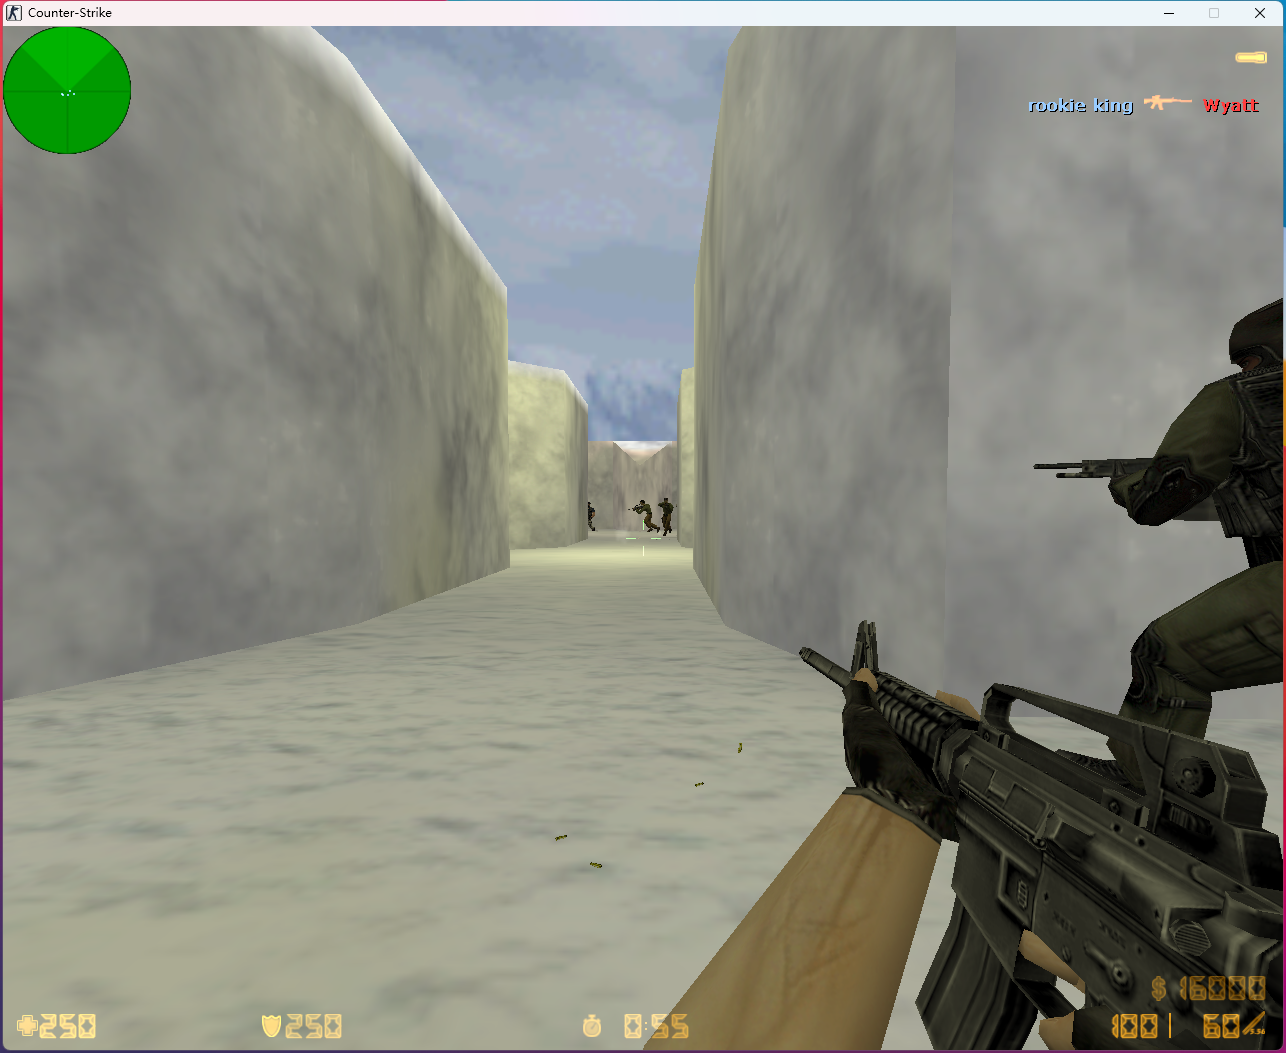C: (1041, 297, 1286, 789)
T: (632, 498, 660, 533), (585, 500, 599, 530), (660, 496, 670, 532)
